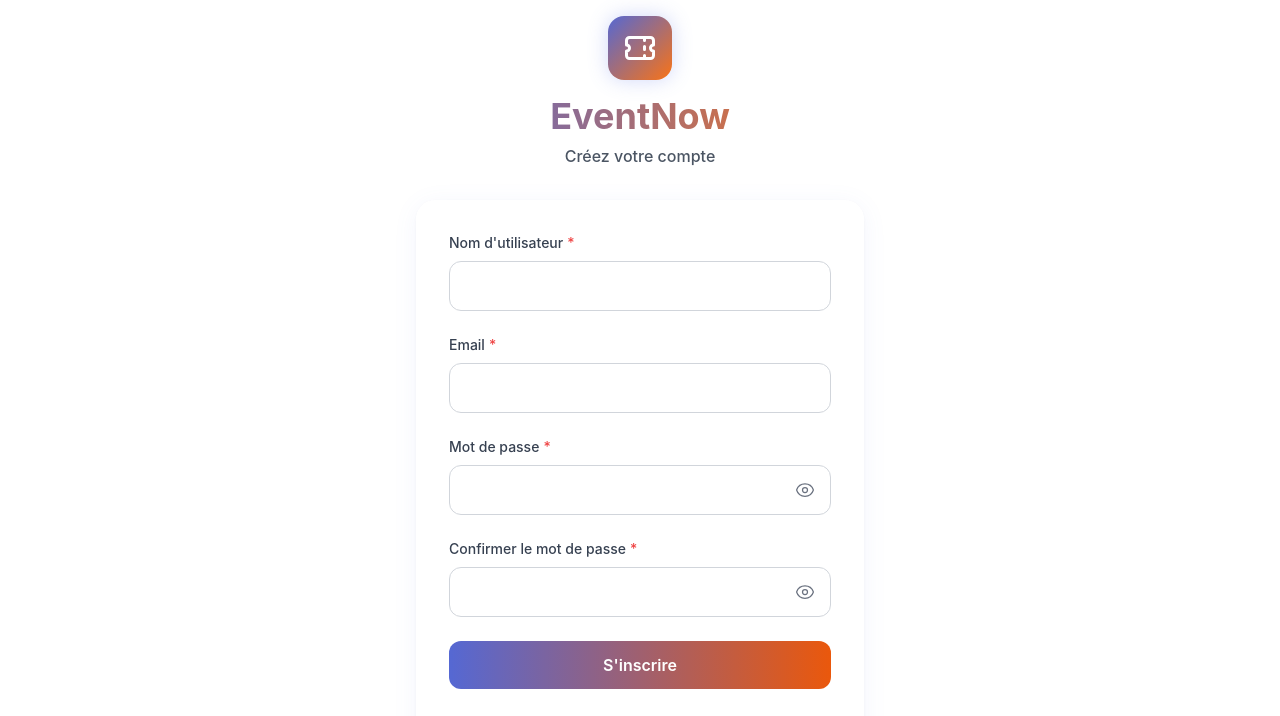
Test: RegisterPage - client-side validation › rejects a username shorter than 3 characters
Type "ab" into the field labelled "Nom d'utilisateur*". click: (640, 286)
box: [449,261,831,311]
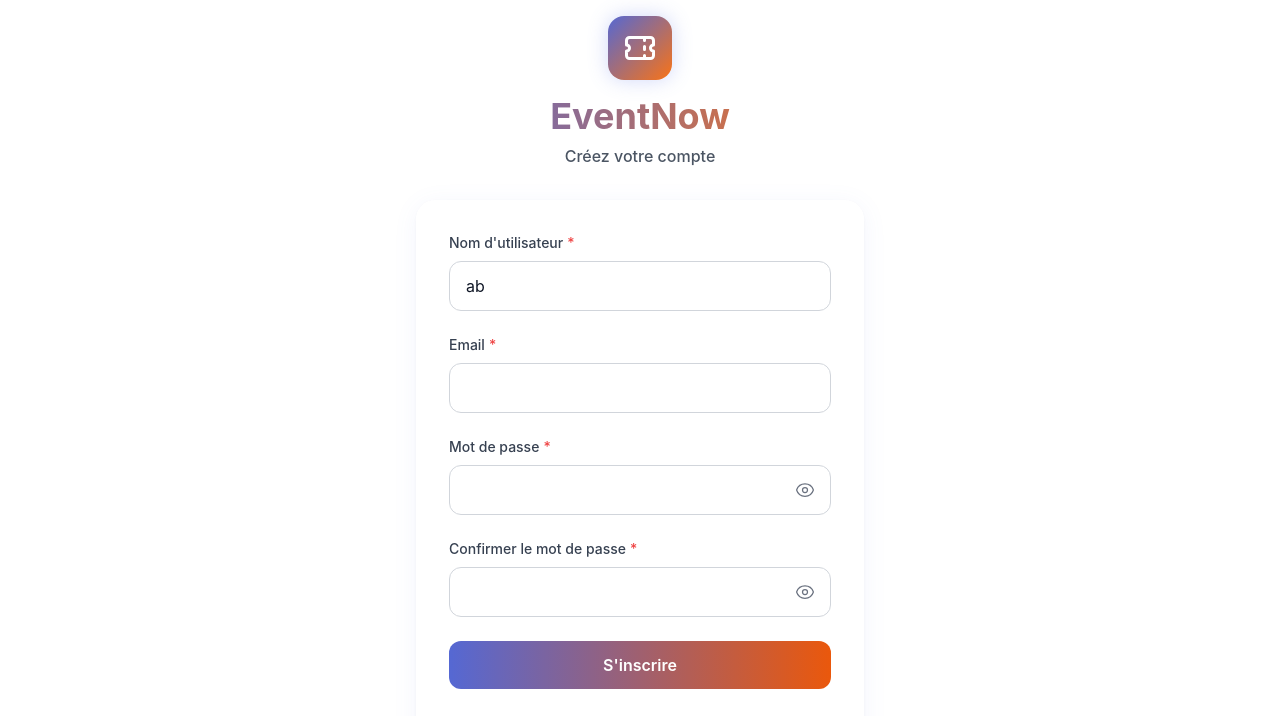
Type "alice@example.com" into the field labelled "Email*". click: (640, 388)
box: [449,363,831,413]
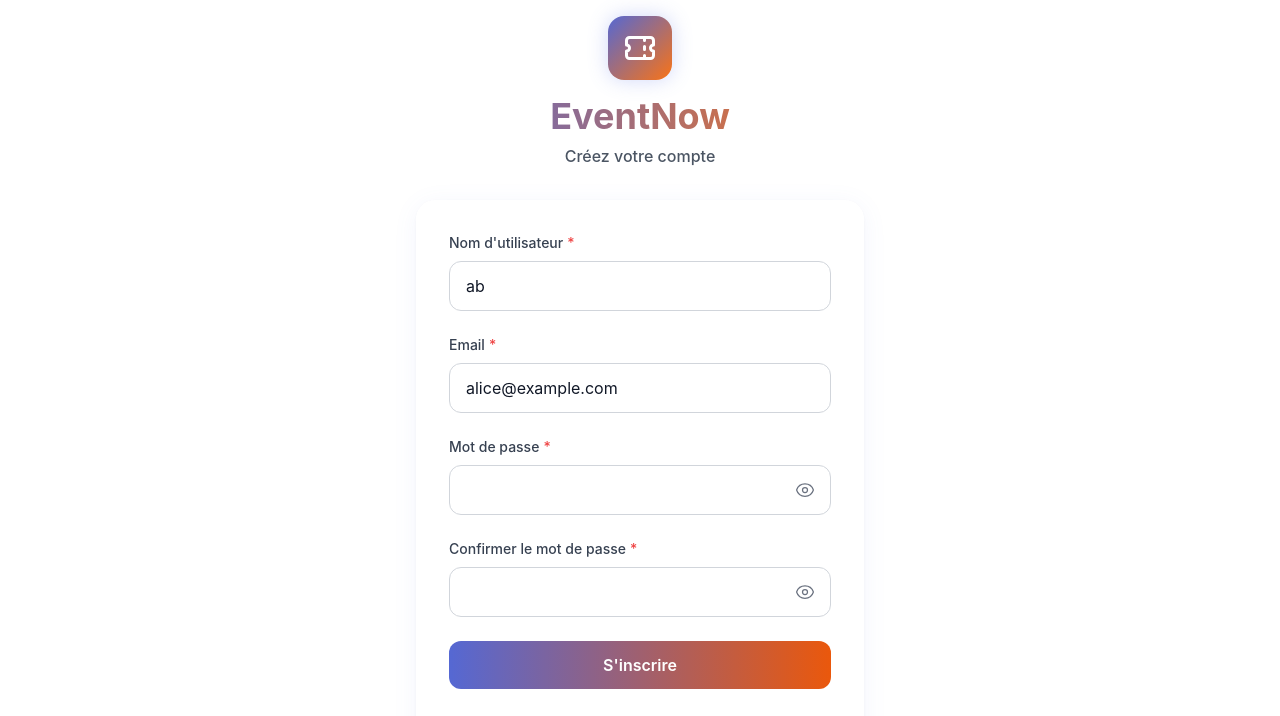
Type "password123" into the password field labelled "Mot de passe*". click: (640, 490)
box: [449,465,831,515]
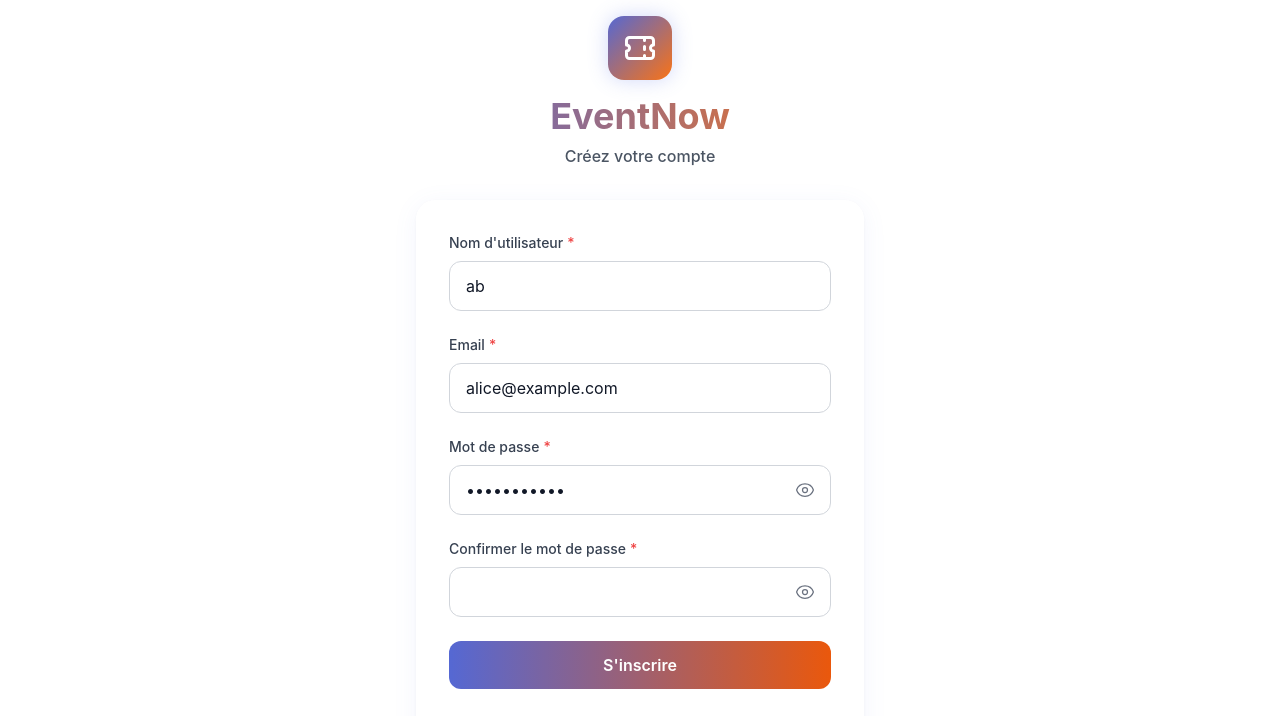
Type "password123" into the password field labelled "Confirmer le mot de passe*". click: (640, 592)
box: [449,567,831,617]
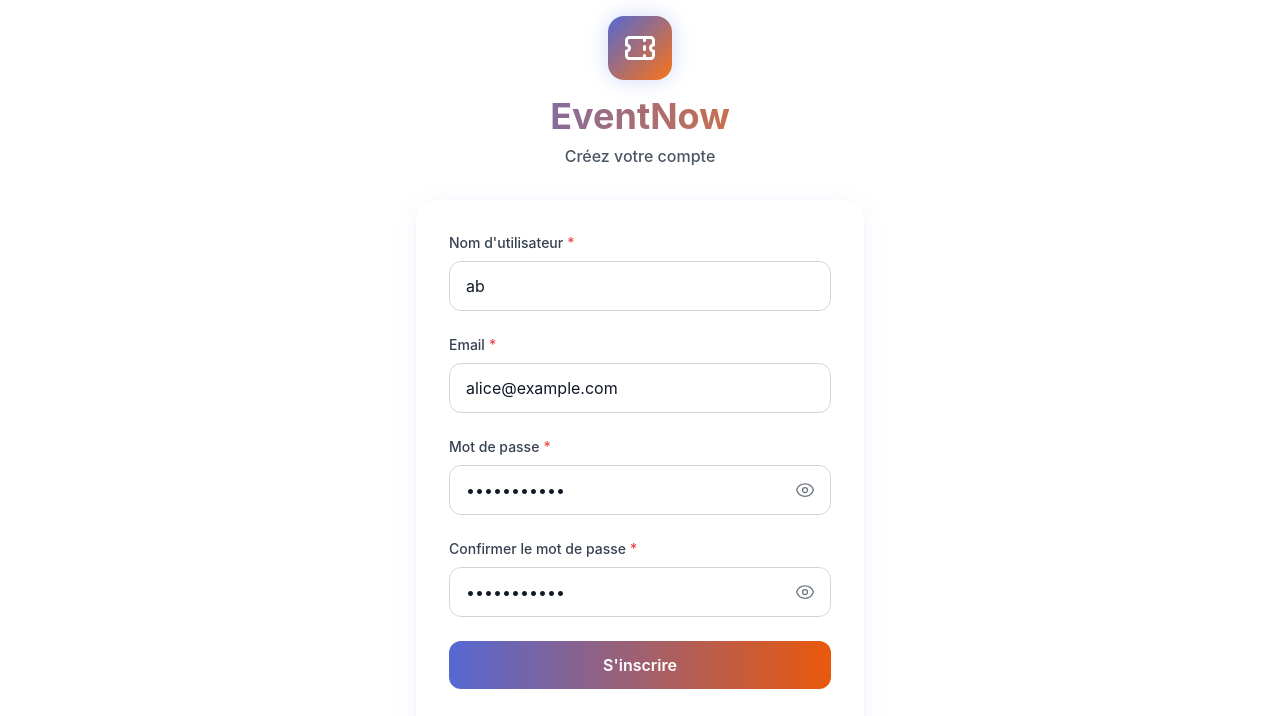
Click the button "S'inscrire". click: (640, 665)
box: [449,641,831,689]
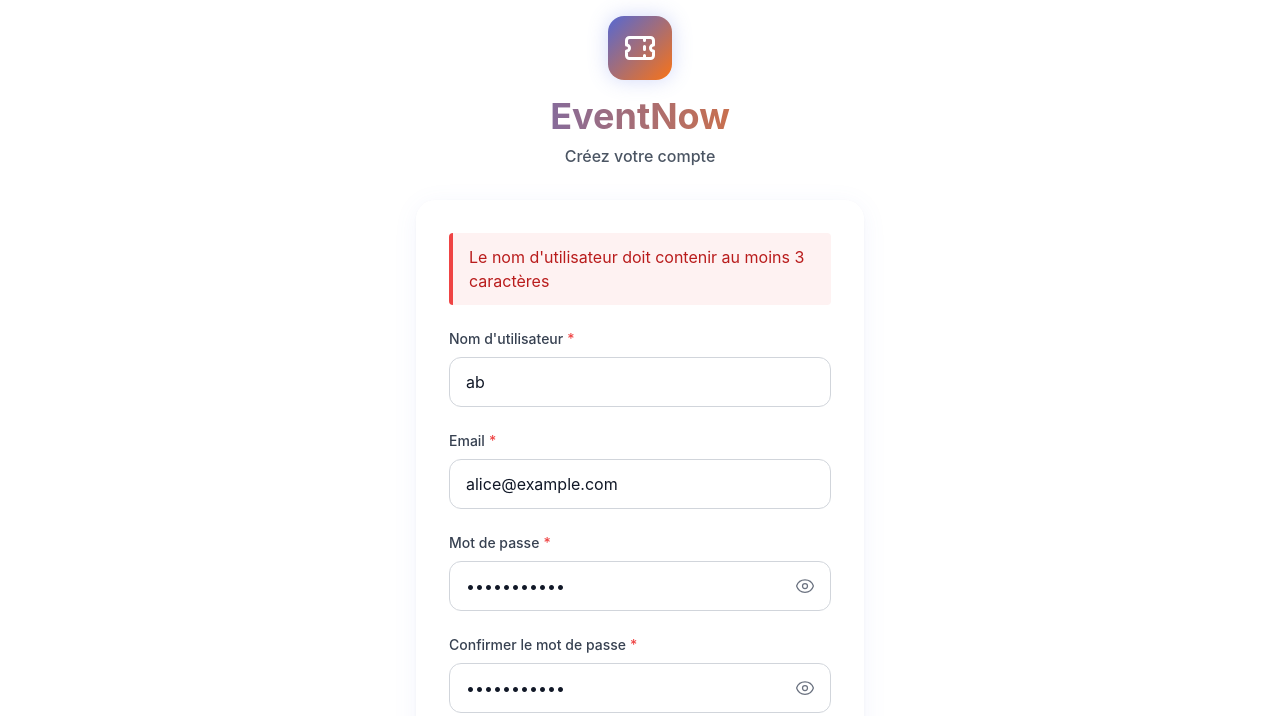
expect the text "Le nom d'utilisateur doit contenir au moins 3 caractères" is shown: met, box [469,245,815,293]
